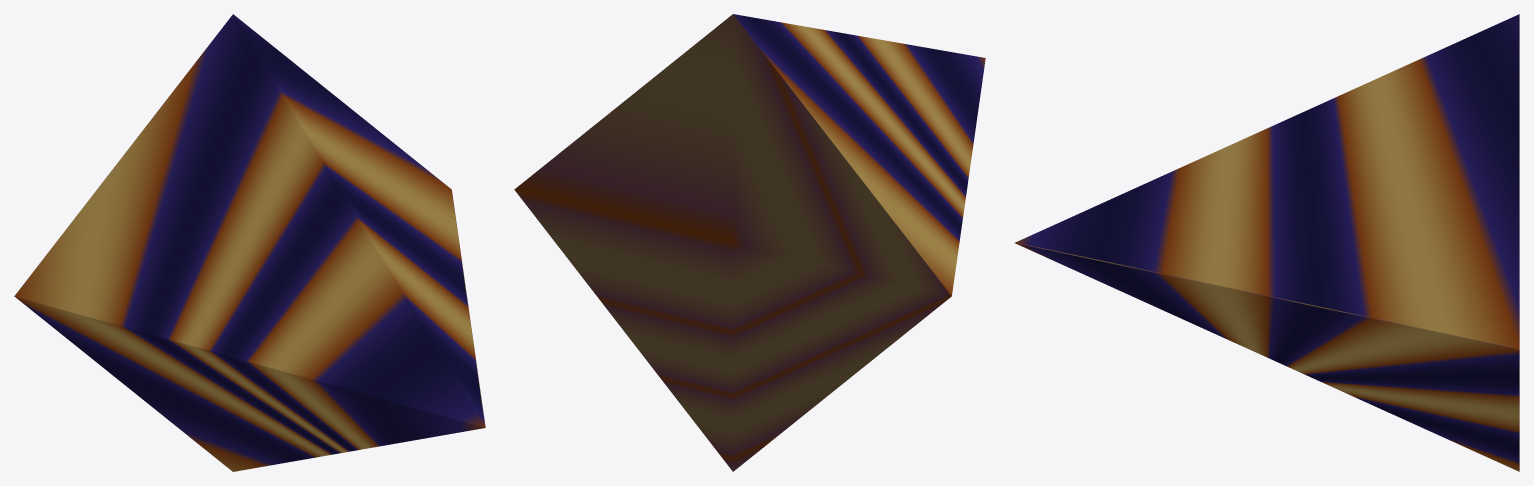
File: pyramid-warm-amber-c2.glb
The picture shows the model from 3 angles, left to right: view 1: azimuth 30°, elevation 25°; view 2: azimuth 150°, elevation 25°; view 3: azimuth 270°, elevation 25°; orthographic projection.
Parts seen in each view (by area): view 1: world; view 2: world; view 3: world.
Boxes of the visible parts, x1,y1,x2,y2 form: world: (14,14,485,471); world: (514,14,985,471); world: (1015,14,1519,471).
Size of the model in its own units: 1.2 by 1.2 by 1.2.
1 material, 1 textured.
